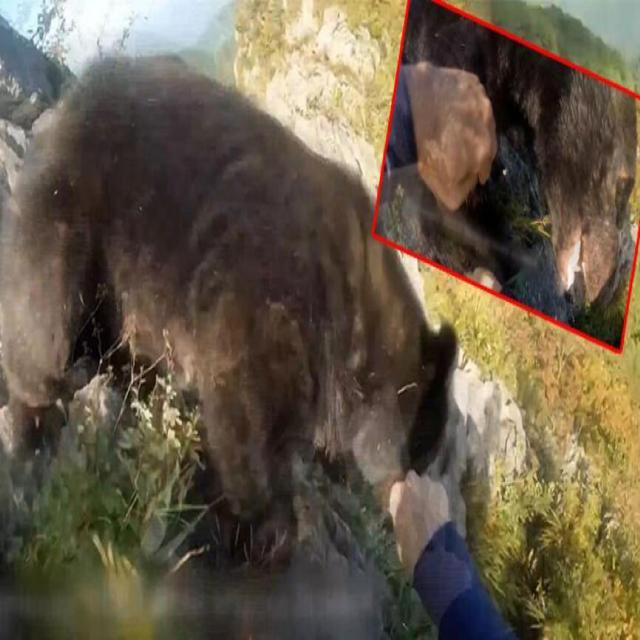Bear: (1, 54, 453, 569), (446, 17, 618, 303)
